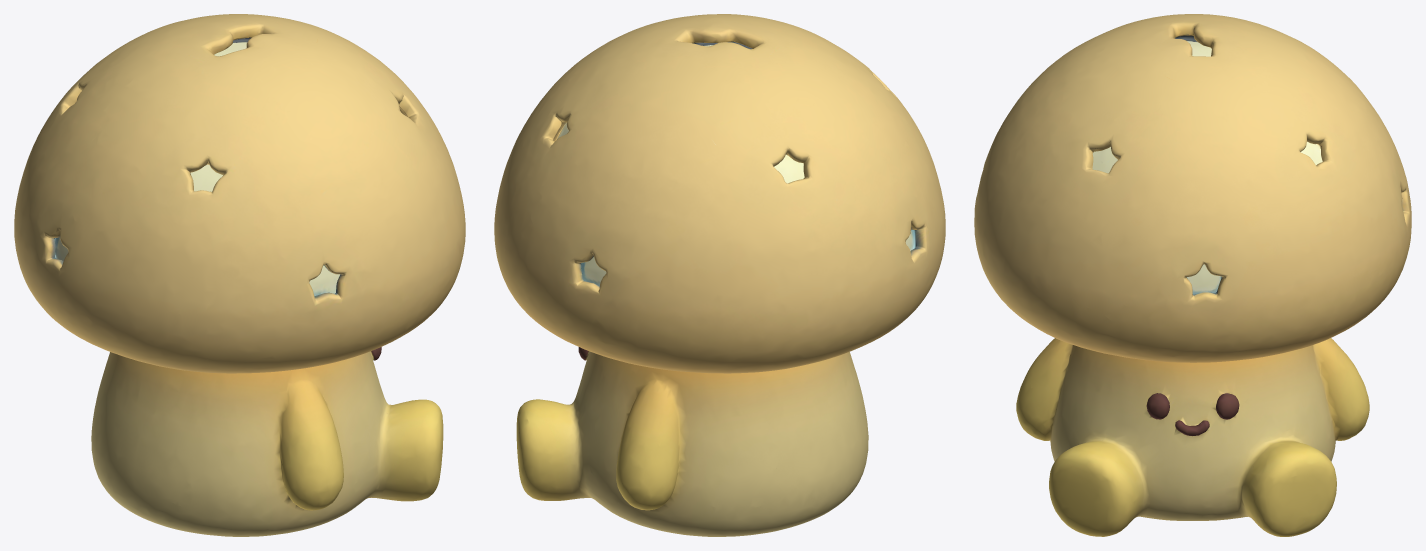
Rendered from toy_lamp.glb.
The picture shows the model from 3 angles, left to right: view 1: azimuth 30°, elevation 25°; view 2: azimuth 150°, elevation 25°; view 3: azimuth 270°, elevation 25°; orthographic projection. The views are drawn at different scales.
Parts seen in each view (by area): view 1: tripo_node_ed6e9e1f-2232-4e11-9a95-49138d6680ba; view 2: tripo_node_ed6e9e1f-2232-4e11-9a95-49138d6680ba; view 3: tripo_node_ed6e9e1f-2232-4e11-9a95-49138d6680ba.
Boxes of the visible parts, box(x1,y1,x2,y2) form: tripo_node_ed6e9e1f-2232-4e11-9a95-49138d6680ba: box(14, 14, 465, 536); tripo_node_ed6e9e1f-2232-4e11-9a95-49138d6680ba: box(494, 14, 945, 536); tripo_node_ed6e9e1f-2232-4e11-9a95-49138d6680ba: box(974, 14, 1411, 536).
Bounding box in the file's own units: 0.9043 × 1 × 0.9044.
Materials: 1 (1 with a texture image).
